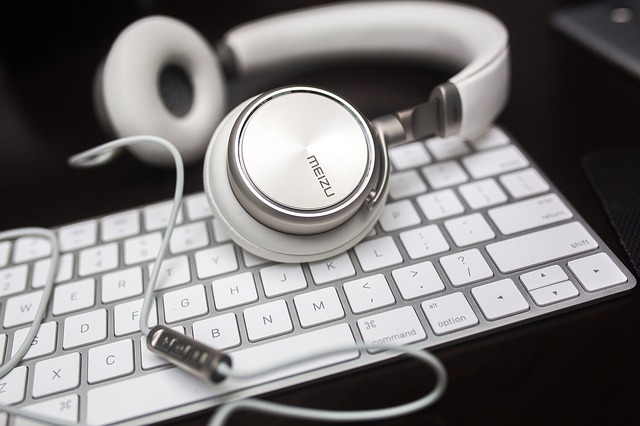headphones: (98, 1, 508, 262)
